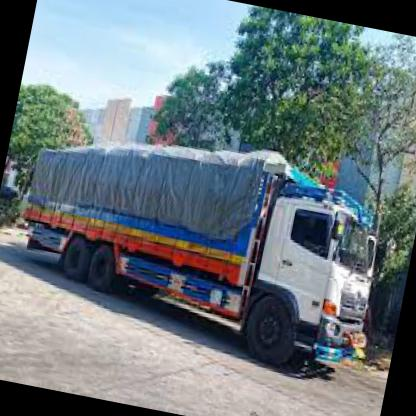truck: (239, 177, 392, 386)
